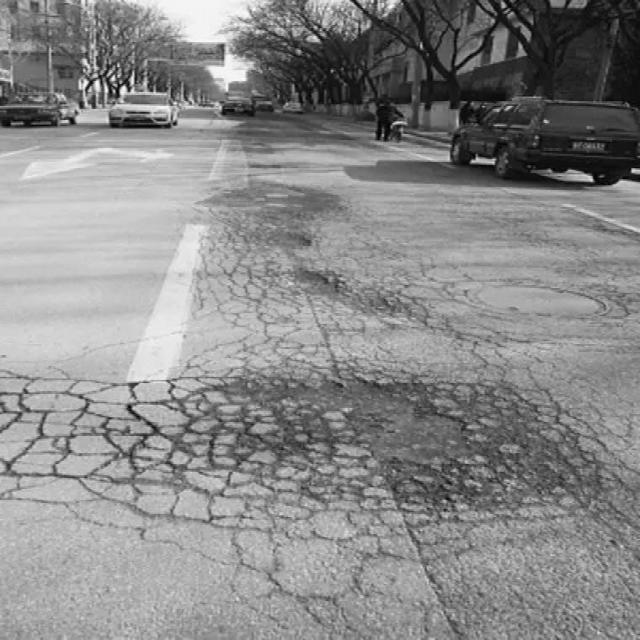Pothole: (185, 369, 599, 512), (294, 268, 413, 325), (260, 225, 313, 248)
